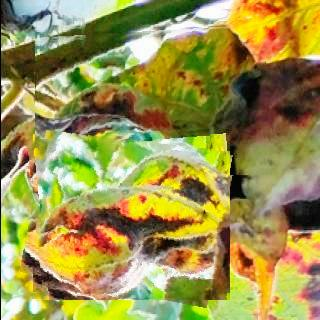blight: (34, 24, 268, 175), (26, 126, 229, 300)
